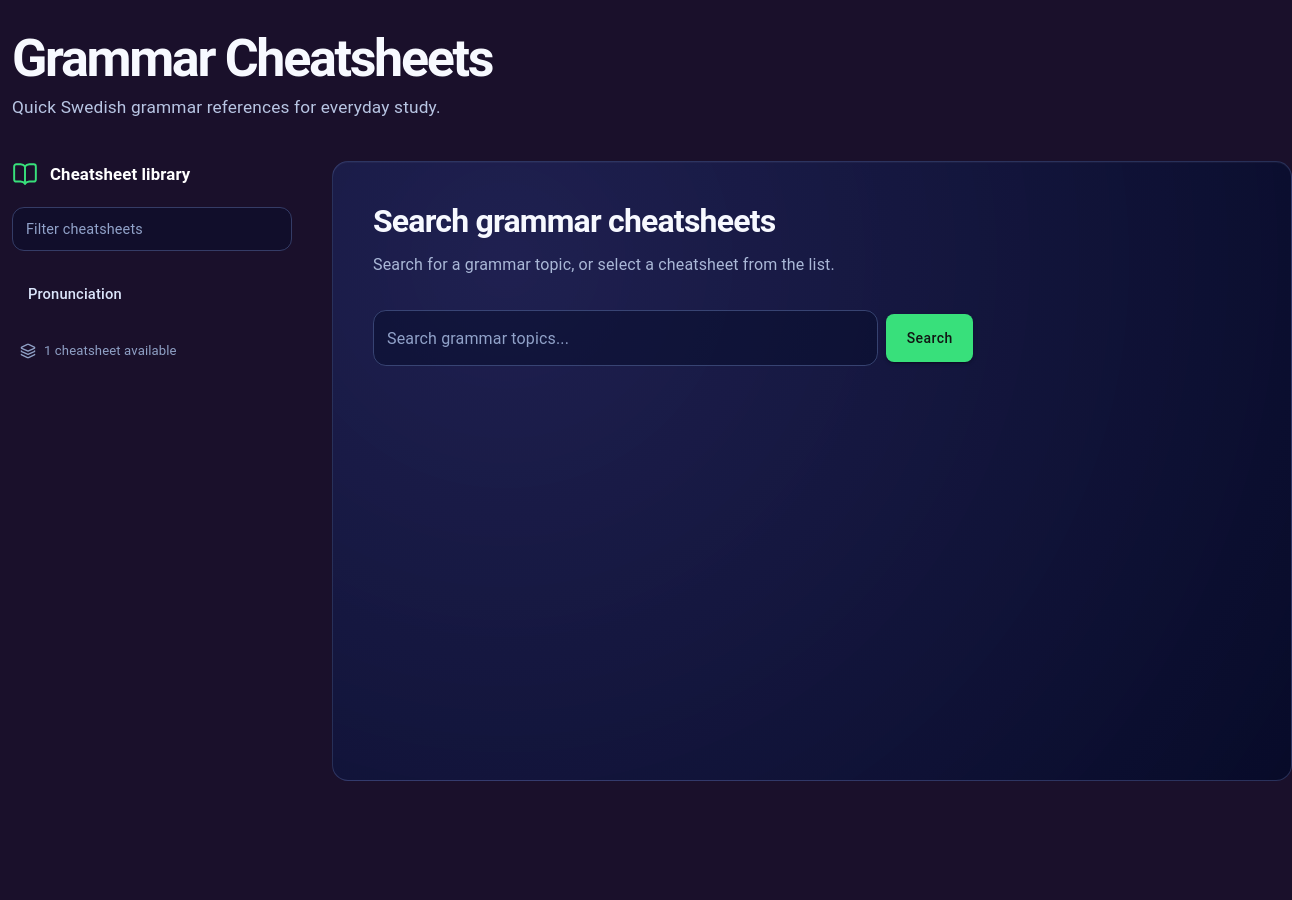
GrammarView › navigates to grammar start when clicking Cheatsheet library
Click the button "Pronunciation" at coordinates (75, 294), box [28, 285, 122, 303]
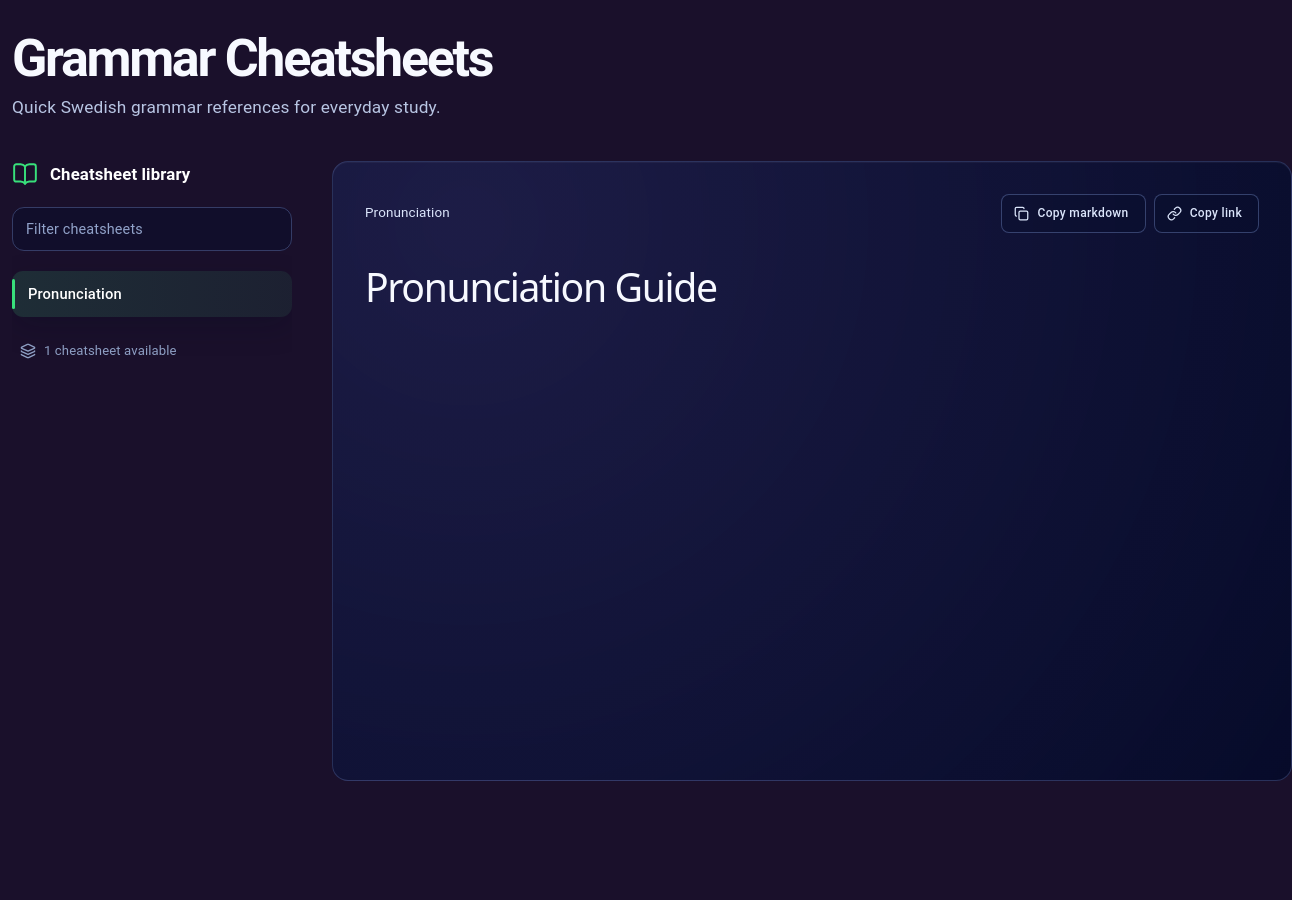
Click the button "Cheatsheet library" at coordinates (101, 174), box [12, 160, 190, 187]
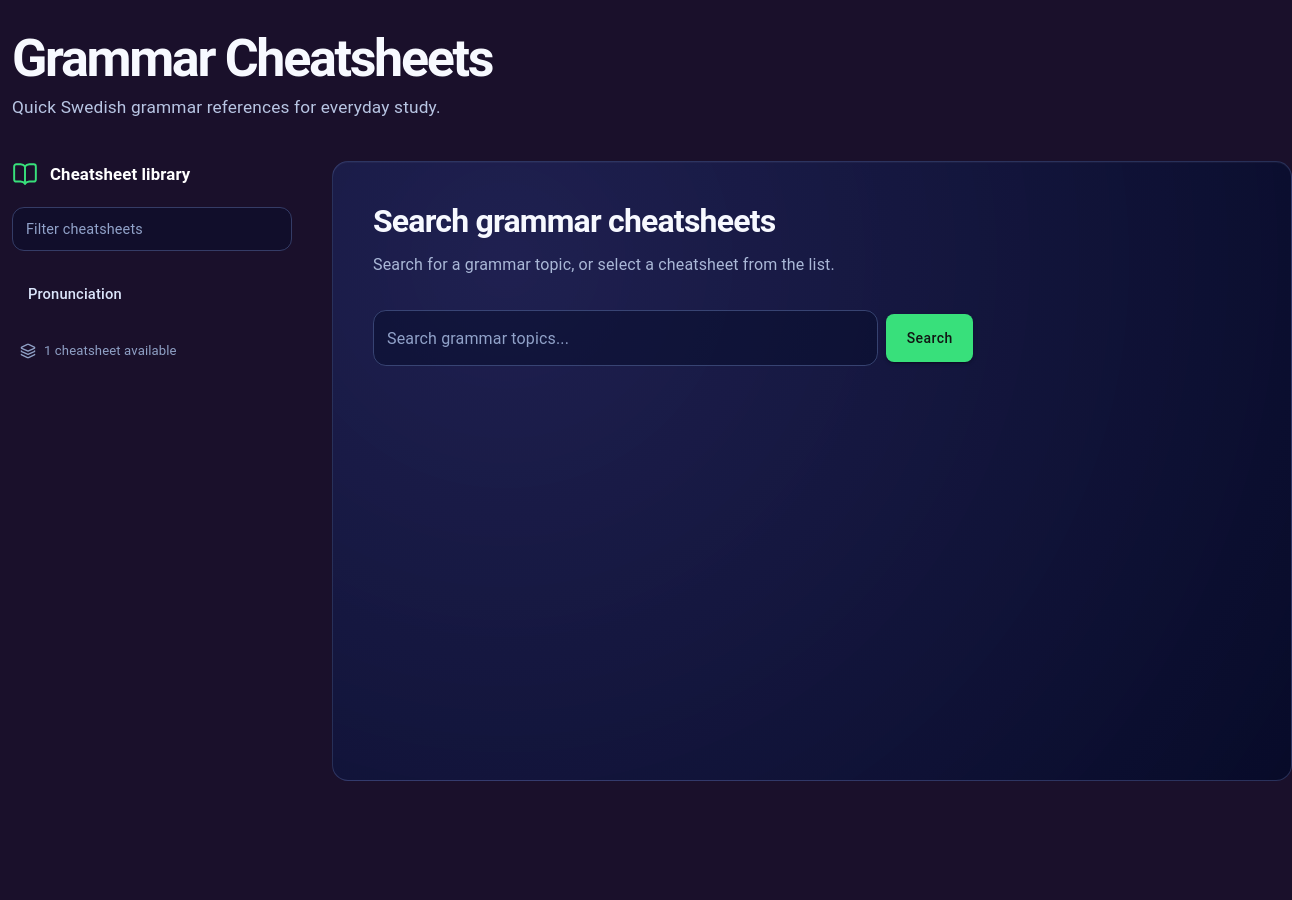
Expected: the heading "Search grammar cheatsheets" is shown, [373, 202, 775, 240]
